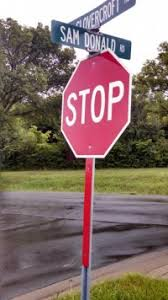Stop: (60, 51, 137, 162)
